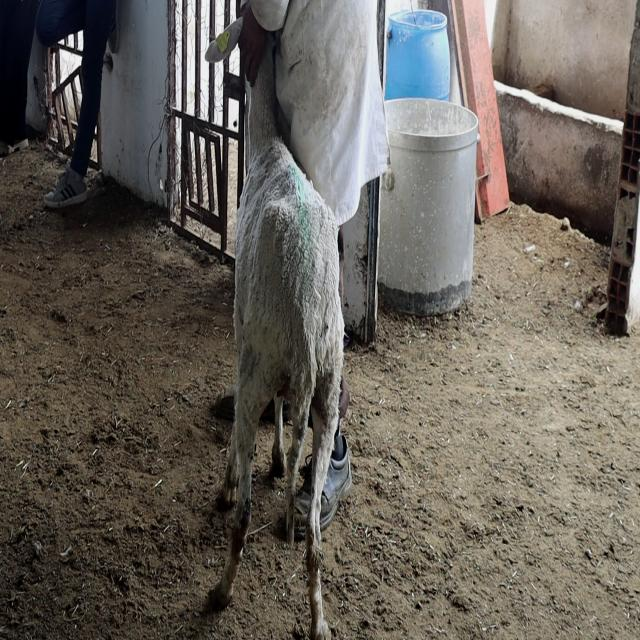Score_1: (208, 57, 344, 639)
